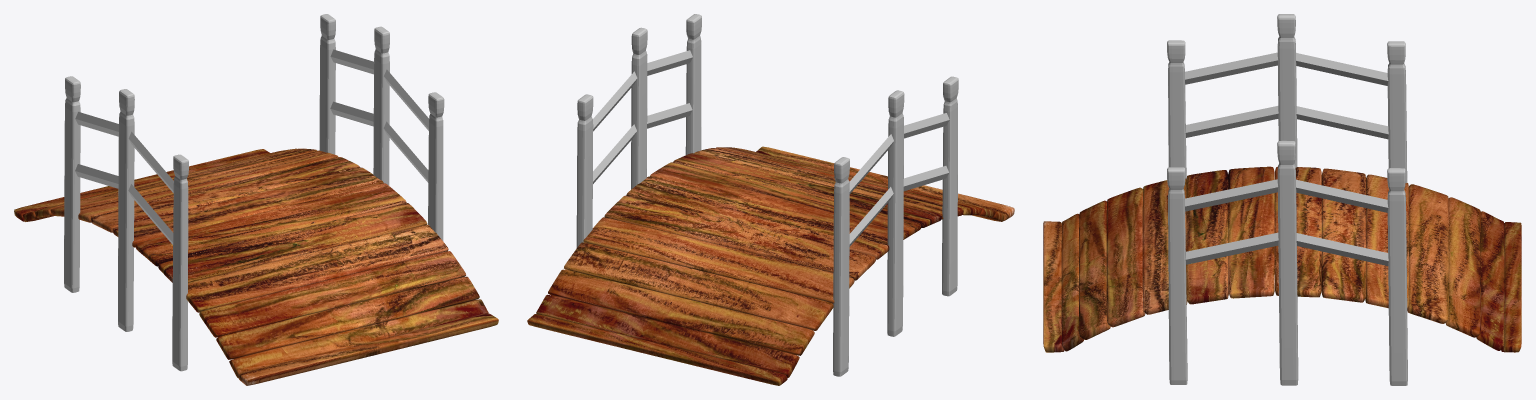
The model's file is NEWbridge.fbx.
The picture shows the model from 3 angles, left to right: view 1: azimuth 30°, elevation 25°; view 2: azimuth 150°, elevation 25°; view 3: azimuth 270°, elevation 25°; orthographic projection.
Visible parts, largest first — view 1: Cube, Cube.001, Cube.002, Circle.002, Circle.001; view 2: Cube, Cube.001, Cube.002, Circle.002, Circle.001; view 3: Cube, Cube.002, Cube.001, Circle.001, Circle.002.
Part boxes in pixels (x1,y1,x2,y2): Cube: (14, 148, 498, 385); Cube.001: (64, 76, 188, 371); Cube.002: (319, 14, 444, 240); Circle.002: (75, 112, 173, 244); Circle.001: (330, 49, 428, 182); Cube: (527, 146, 1014, 385); Cube.001: (833, 76, 958, 376); Cube.002: (576, 14, 701, 247); Circle.002: (849, 113, 949, 246); Circle.001: (593, 50, 692, 183); Cube: (1043, 166, 1521, 352); Cube.002: (1167, 140, 1407, 385); Cube.001: (1167, 14, 1407, 182); Circle.001: (1185, 179, 1388, 265); Circle.002: (1185, 52, 1388, 139).
Bounding box in the file's own units: 1102 × 951 × 1698.
